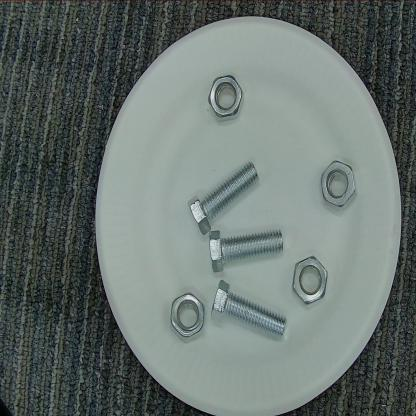FOD: (182, 156, 262, 238), (208, 275, 295, 345), (199, 226, 290, 274), (293, 245, 336, 311), (201, 72, 250, 122), (318, 157, 360, 212), (170, 291, 206, 346)
